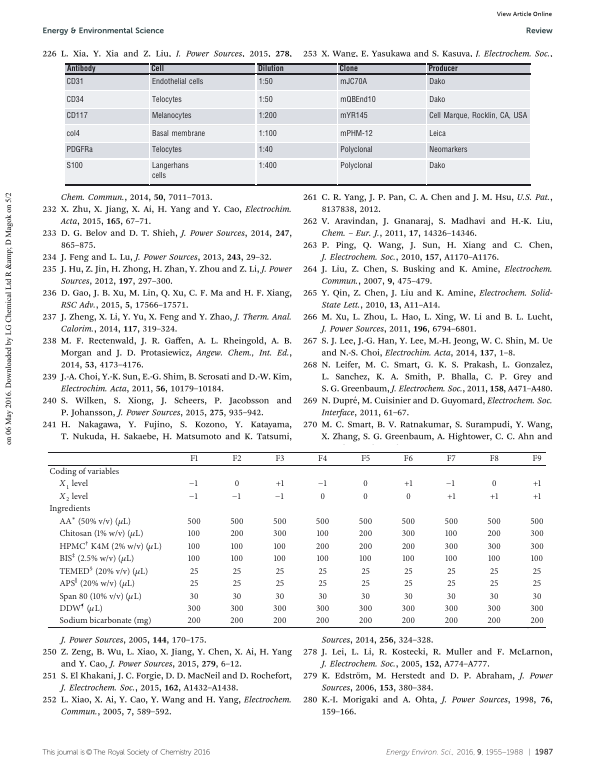borderless: (46, 450, 546, 627), (65, 62, 531, 184)
cell: (58, 537, 163, 554), (58, 563, 149, 579), (58, 526, 144, 541), (58, 588, 143, 603), (58, 575, 136, 591), (58, 550, 135, 566), (58, 513, 132, 529), (58, 616, 152, 627), (428, 111, 528, 121), (150, 161, 189, 181), (58, 600, 104, 616), (48, 467, 120, 477), (58, 488, 89, 505), (150, 129, 206, 138), (58, 476, 89, 492), (150, 77, 204, 86), (48, 504, 91, 515), (150, 111, 192, 121), (428, 145, 468, 155), (339, 145, 373, 155), (339, 161, 373, 171), (339, 95, 376, 104), (150, 145, 182, 155), (65, 64, 96, 74), (427, 64, 458, 74), (339, 129, 373, 138), (339, 111, 368, 121), (150, 95, 182, 104), (256, 64, 284, 74), (65, 145, 93, 155), (339, 77, 367, 86), (65, 111, 88, 121), (338, 64, 358, 74), (257, 111, 277, 121), (257, 161, 277, 171), (188, 488, 200, 504), (231, 488, 243, 504), (274, 488, 286, 504), (257, 129, 277, 138), (65, 161, 83, 171), (428, 161, 446, 171), (188, 476, 200, 491), (317, 476, 329, 491), (229, 529, 245, 540), (229, 616, 245, 627), (65, 77, 84, 86), (65, 95, 84, 104), (446, 476, 457, 491), (272, 529, 287, 540), (358, 529, 373, 540), (401, 529, 416, 540), (487, 529, 502, 540), (530, 529, 545, 540), (315, 541, 330, 552), (358, 541, 373, 552), (401, 541, 416, 552), (444, 541, 459, 552), (487, 541, 502, 552), (530, 541, 545, 552), (187, 616, 202, 627), (272, 616, 287, 627), (315, 616, 330, 627), (358, 616, 373, 627), (401, 616, 416, 627), (444, 616, 459, 627), (487, 616, 502, 627), (530, 616, 545, 627), (428, 77, 446, 86), (428, 95, 446, 104), (428, 129, 446, 138), (257, 145, 273, 155), (229, 517, 245, 527), (229, 604, 245, 614), (187, 529, 201, 540), (316, 529, 330, 540), (444, 529, 458, 540), (187, 541, 201, 552), (230, 541, 244, 552), (273, 541, 287, 552), (187, 554, 201, 565), (230, 554, 244, 565), (273, 554, 287, 565), (316, 554, 330, 565), (359, 554, 373, 565), (401, 554, 415, 565), (444, 554, 458, 565), (487, 554, 501, 565), (530, 554, 544, 565), (187, 517, 202, 527), (272, 517, 287, 527), (315, 517, 330, 527), (358, 517, 373, 527), (401, 517, 416, 527), (444, 517, 459, 527), (487, 517, 502, 527), (530, 517, 545, 527), (187, 604, 202, 614), (272, 604, 287, 614), (315, 604, 330, 614), (358, 604, 373, 614), (401, 604, 416, 614), (444, 604, 459, 614), (487, 604, 502, 614), (530, 604, 545, 614), (257, 77, 273, 86), (257, 95, 273, 104), (150, 64, 164, 74), (65, 129, 80, 138), (274, 454, 285, 465), (317, 454, 328, 465), (360, 454, 371, 465), (403, 454, 414, 465), (446, 454, 457, 465), (489, 454, 500, 465), (532, 454, 543, 465), (403, 479, 414, 490), (360, 566, 371, 577), (403, 566, 414, 577), (446, 566, 457, 577), (317, 591, 328, 602), (360, 591, 371, 602), (403, 591, 414, 602), (446, 591, 457, 602), (189, 454, 199, 465), (232, 454, 242, 465), (275, 479, 285, 490), (532, 479, 542, 490), (189, 566, 199, 577), (232, 566, 242, 577), (275, 566, 285, 577), (318, 566, 328, 577), (489, 566, 499, 577), (532, 566, 542, 577), (360, 579, 371, 589), (403, 579, 414, 589), (446, 579, 457, 589), (189, 591, 199, 602), (232, 591, 242, 602), (275, 591, 285, 602), (489, 591, 499, 602), (532, 591, 542, 602), (446, 492, 456, 502), (489, 492, 499, 502), (532, 492, 542, 502), (189, 579, 199, 589), (232, 579, 242, 589), (275, 579, 285, 589), (318, 579, 328, 589), (489, 579, 499, 589), (532, 579, 542, 589), (362, 479, 369, 490), (362, 492, 369, 502), (405, 492, 412, 502), (234, 479, 240, 490), (491, 479, 497, 490), (320, 492, 326, 502)
